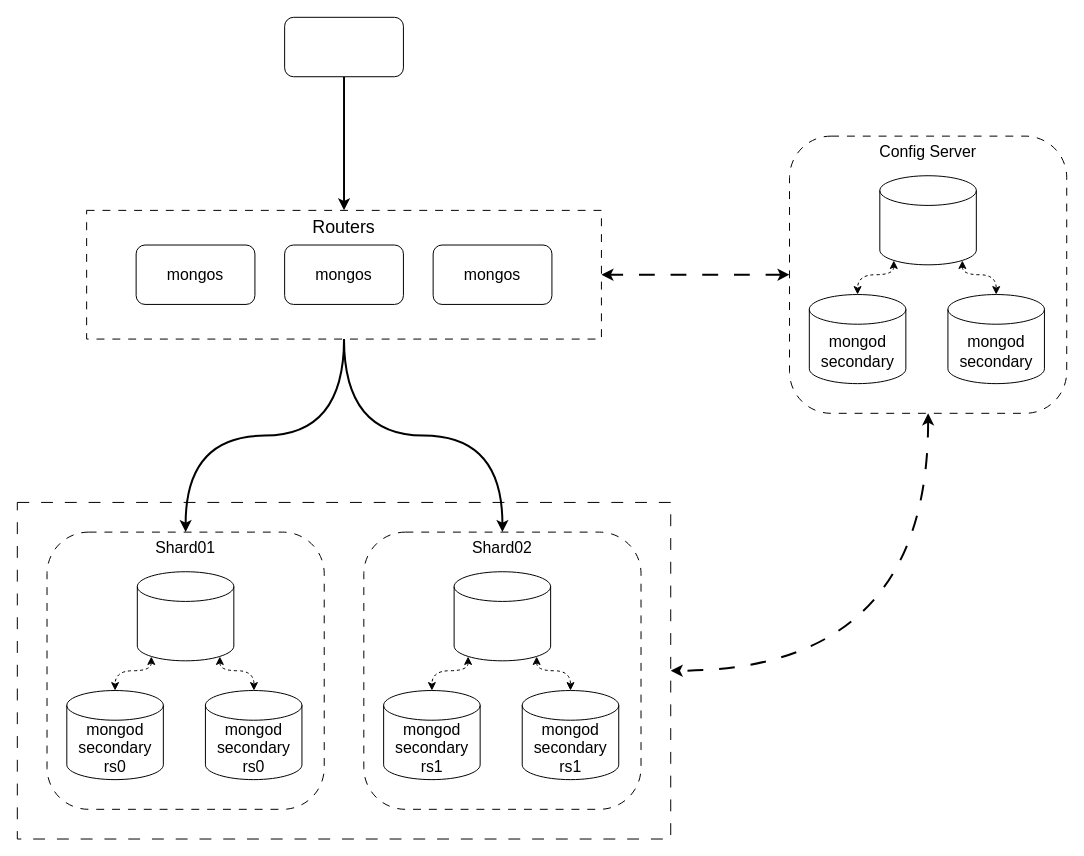
The diagram is 1084 pixels wide and 856 high, and some of its shapes have lost their labels. Each missing label, with the centre of its shape:
mongod primary: point (927, 220)
mongod primary rs0: point (185, 616)
mongod primary rs1: point (502, 616)
pymongo-api: point (343, 46)
